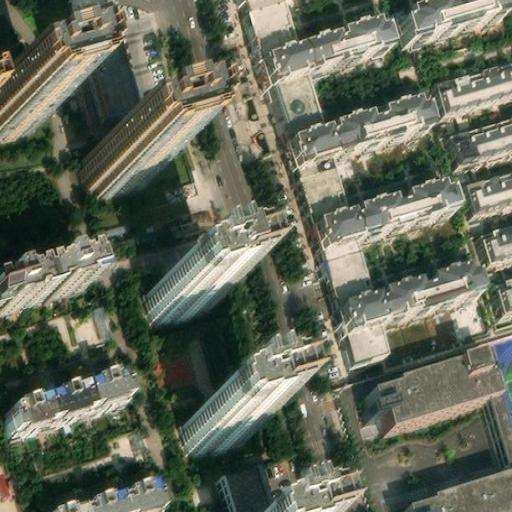building: (334, 264, 479, 335), (367, 364, 494, 444), (291, 99, 433, 168), (314, 184, 456, 253), (255, 20, 392, 85), (12, 371, 129, 430), (79, 25, 138, 117), (398, 468, 512, 512), (74, 142, 151, 199), (405, 0, 510, 40), (434, 64, 512, 116), (147, 264, 222, 317), (186, 393, 260, 446), (0, 260, 81, 308), (43, 482, 163, 512), (277, 71, 331, 135), (306, 156, 359, 220), (247, 0, 304, 59), (446, 117, 512, 166), (328, 241, 378, 302), (221, 459, 270, 512), (461, 169, 512, 215), (476, 227, 512, 265), (352, 323, 391, 354), (490, 280, 512, 314)
